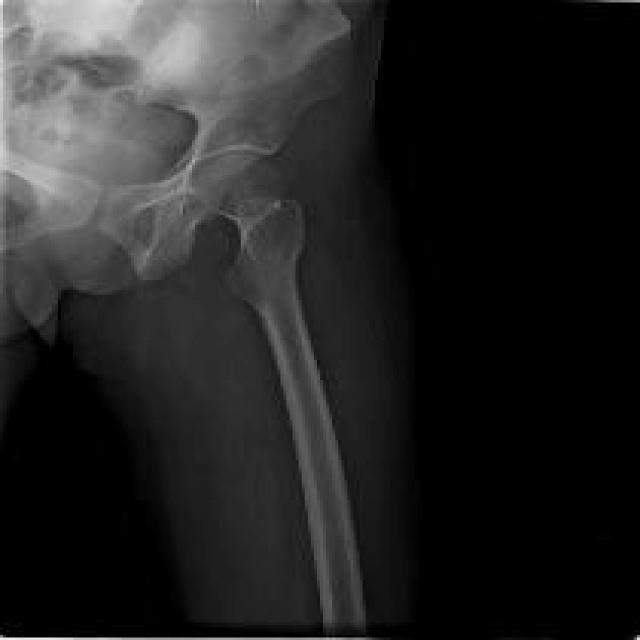normal: (107, 0, 368, 629)
